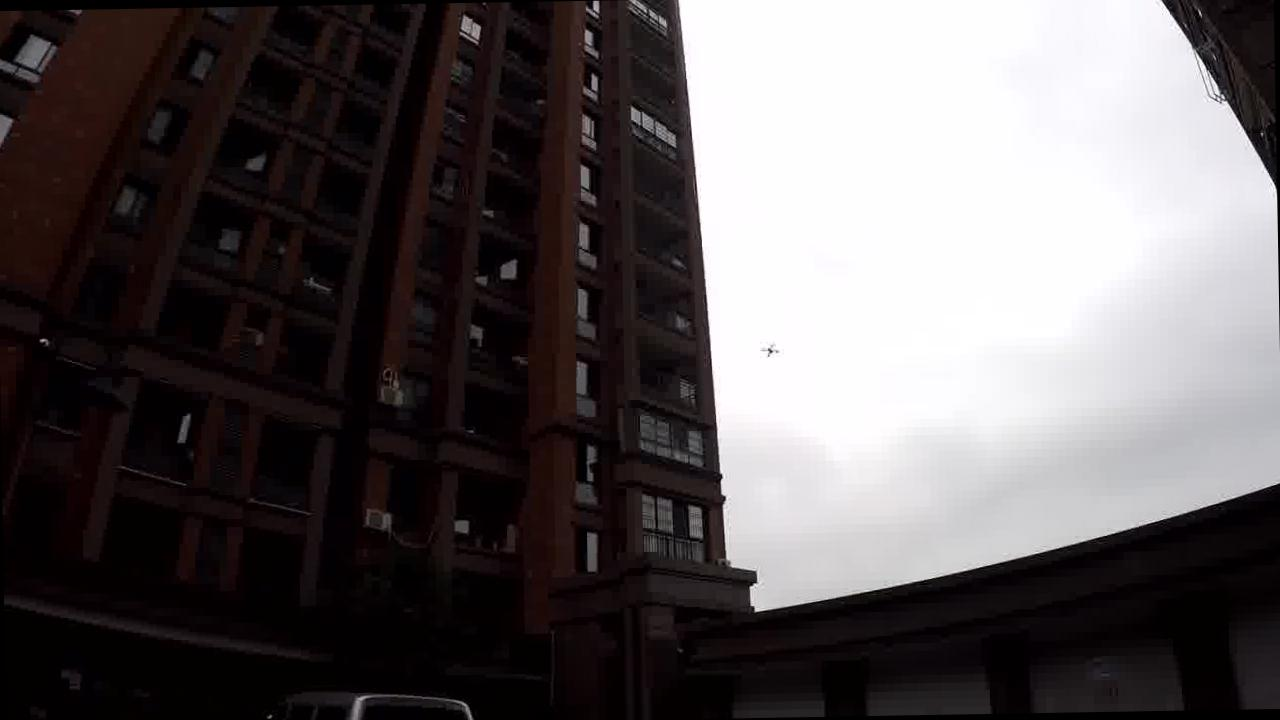drone: (760, 340, 781, 358)
